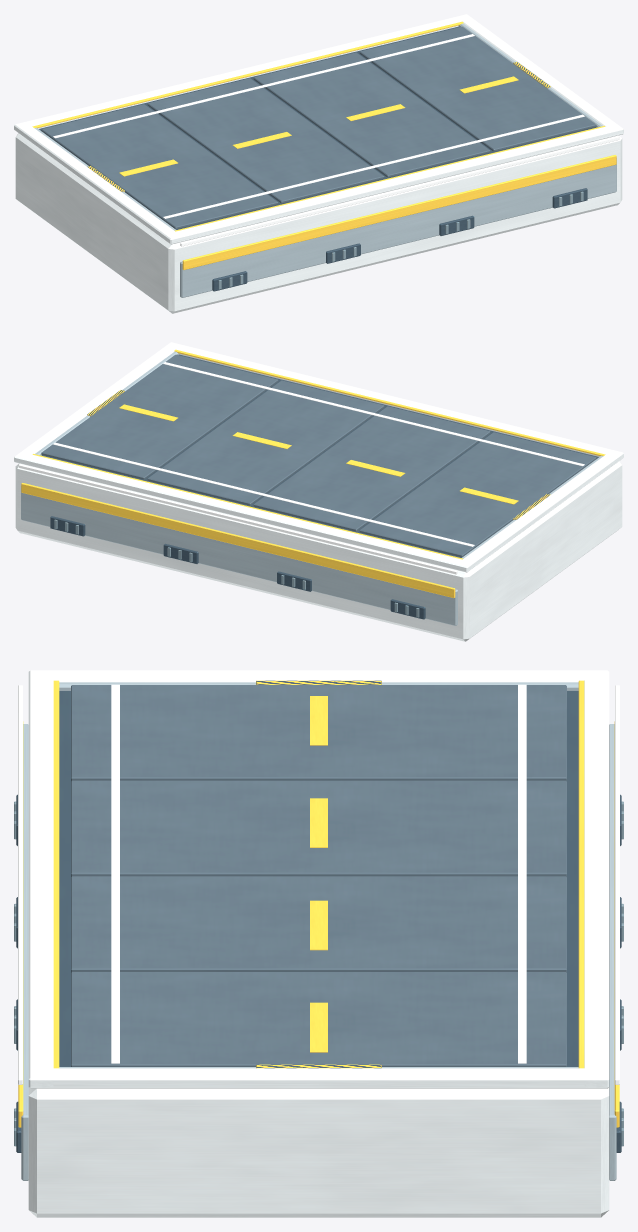
The model's file is ground-road-4m.glb.
3 renders of one model, top to bottom at view 1: azimuth 30°, elevation 25°; view 2: azimuth 150°, elevation 25°; view 3: azimuth 270°, elevation 25°, orthographic. The views are drawn at different scales.
Parts seen in each view (by area): view 1: ground-road-4m; view 2: ground-road-4m; view 3: ground-road-4m.
Part boxes in pixels (x1,y1,x2,y2): ground-road-4m: (14,14,623,313); ground-road-4m: (14,342,623,641); ground-road-4m: (14,670,623,1217).
Size of the model in its own units: 4 by 0.6507 by 2.52.
Materials: 1 (1 with a texture image).
